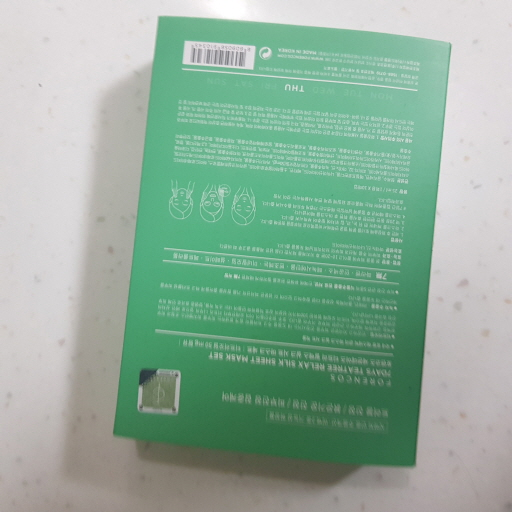Paper_0: (108, 4, 461, 479)
